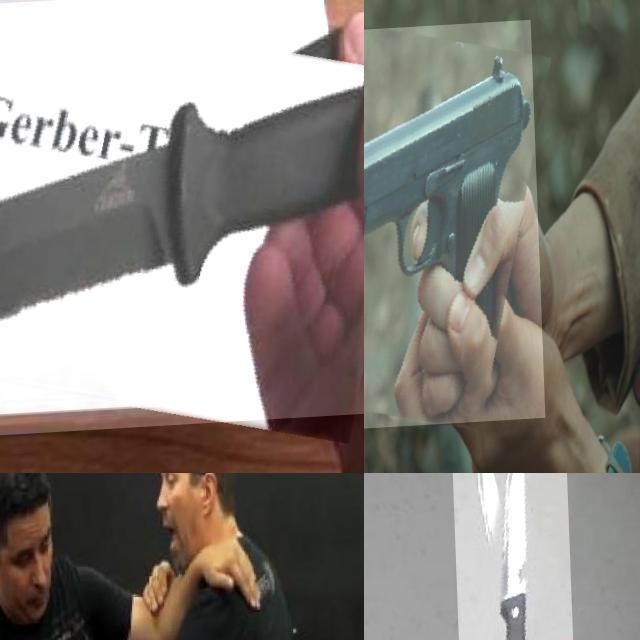-: (0, 0, 364, 445), (451, 473, 575, 640)
gun-knife-thesis - v11 Yolov5 augmented: (364, 24, 541, 434)
